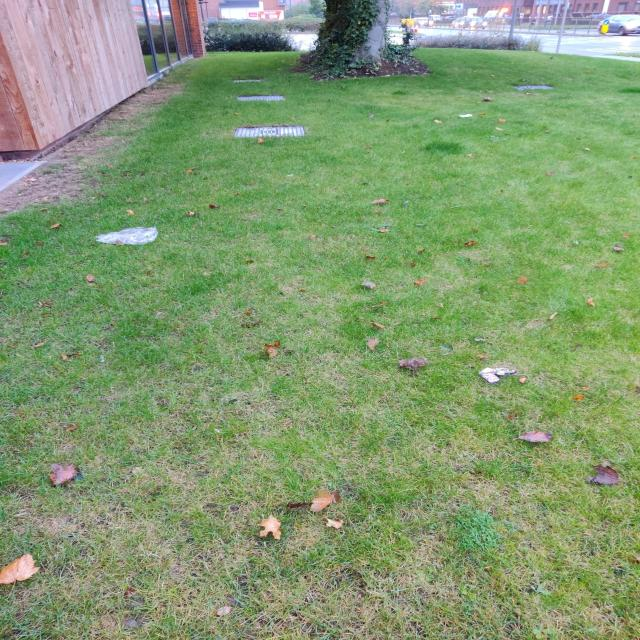litter: (95, 227, 157, 245), (479, 367, 516, 383)
